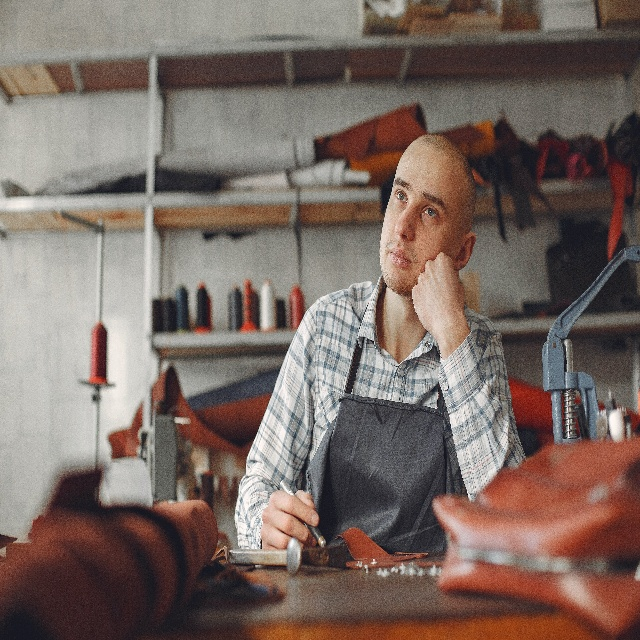Sin_guantes: (411, 251, 465, 345), (260, 487, 320, 552)
